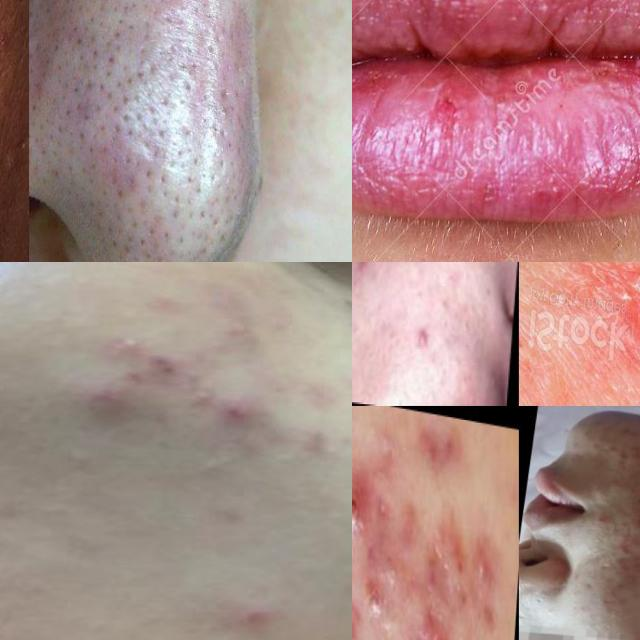comedone: (84, 106, 161, 203), (152, 54, 222, 146), (101, 192, 185, 262), (150, 130, 213, 221), (169, 0, 245, 72), (68, 6, 130, 92), (212, 83, 267, 179), (109, 46, 164, 126), (43, 84, 96, 160), (196, 166, 247, 242), (122, 0, 180, 53), (29, 0, 74, 68), (50, 446, 126, 483), (192, 450, 246, 484), (29, 63, 48, 154), (573, 606, 606, 626), (586, 530, 602, 556), (606, 602, 622, 616)
papule: (212, 380, 314, 430), (86, 371, 138, 434), (216, 615, 292, 640), (603, 551, 640, 592), (410, 312, 436, 360), (352, 283, 368, 328), (420, 628, 466, 640), (614, 442, 640, 461), (626, 514, 640, 532), (605, 478, 625, 490), (592, 514, 610, 526)
pustule: (352, 482, 368, 555)
sebo-crystan-conglo: (607, 262, 640, 367)
